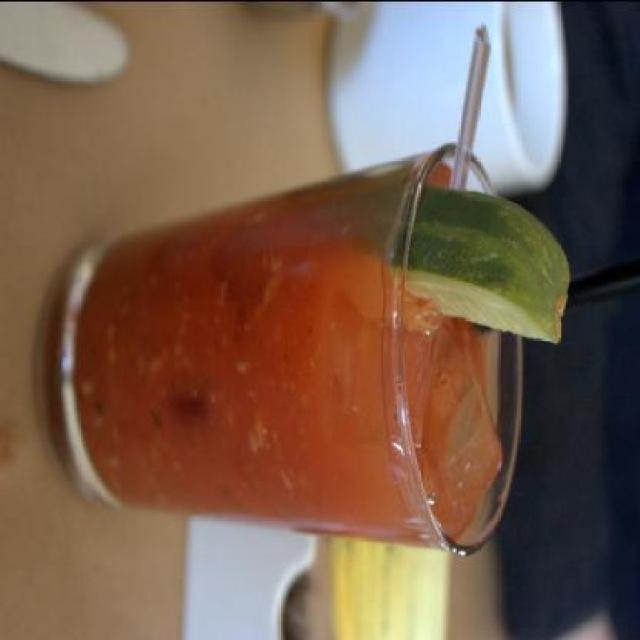Zucchini: (412, 166, 570, 371)
